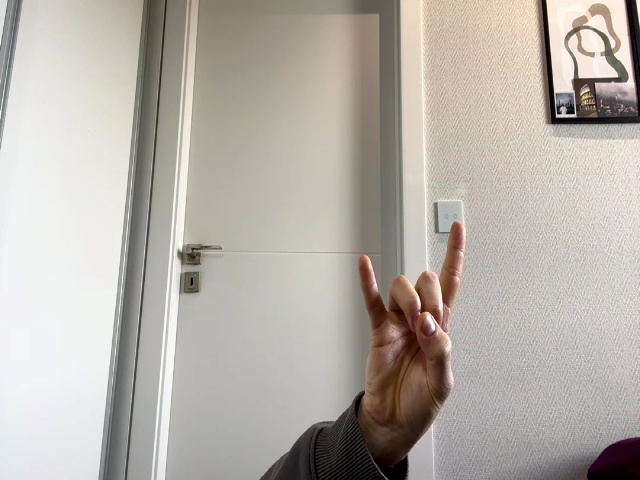Y: (359, 222, 467, 427)
